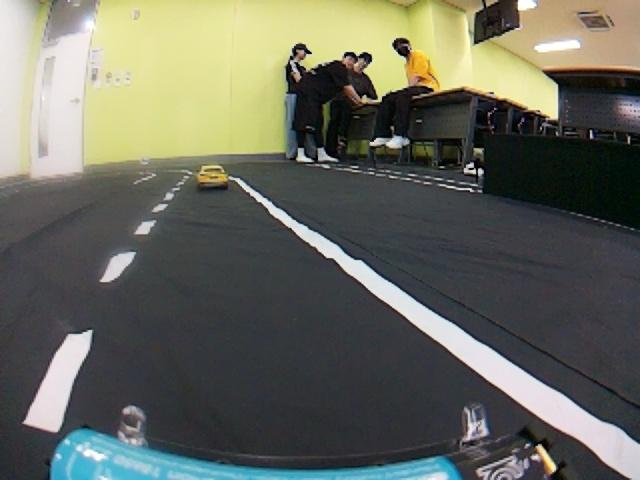car: (194, 159, 231, 191)
straight: (19, 218, 640, 476)
